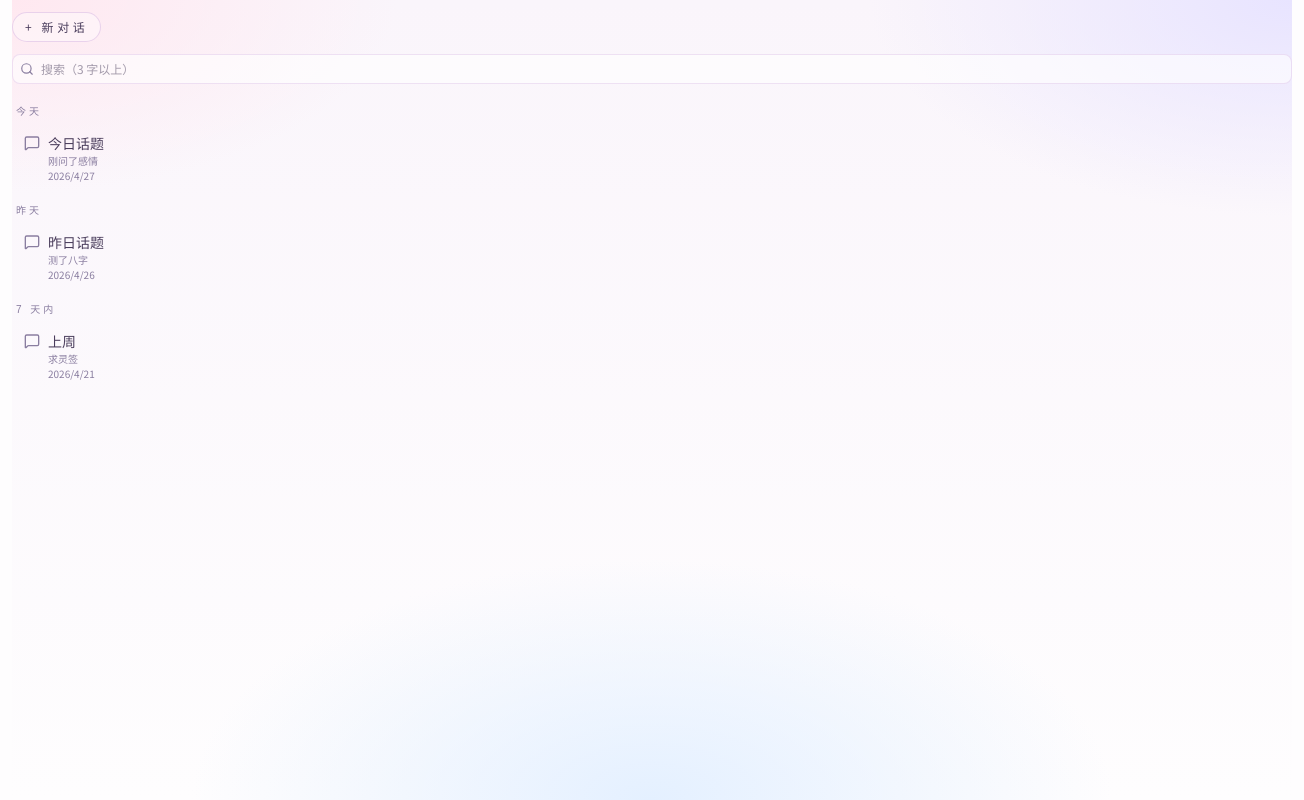
Test: HistoryDrawerBody › 空搜索结果 → 提示文案
expect the text "今日话题" is shown: met, box [48,133,104,153]
Type "不存在" into the search field with placeholder "搜索（3 字以上）" at (652, 69), box [12,54,1292,84]
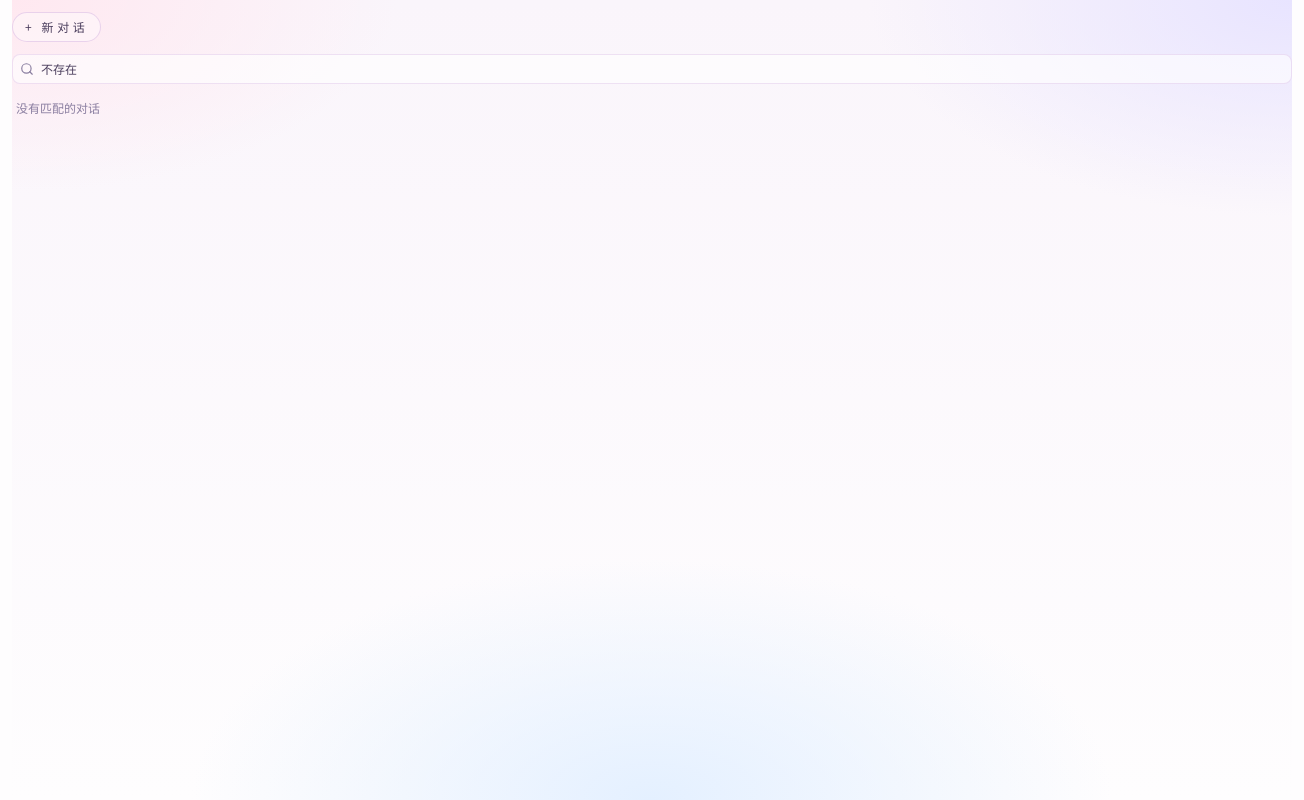
expect the text "没有匹配的对话" is shown: met, box [16,100,100,116]
